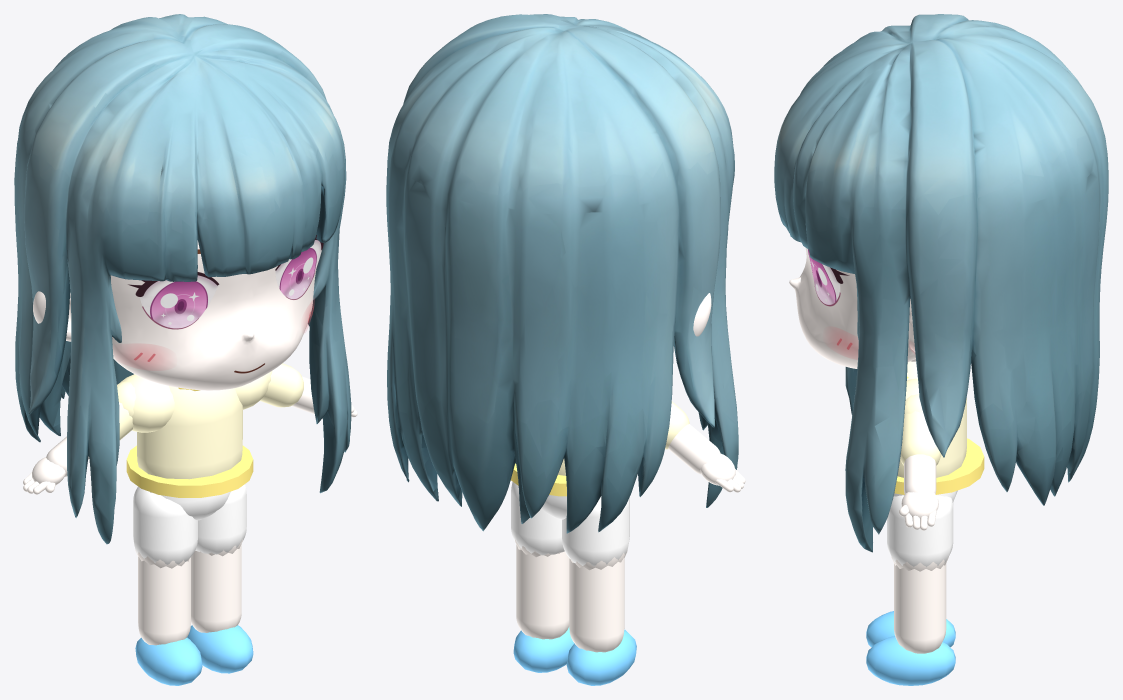
Rendered from frost.glb.
The picture shows the model from 3 angles, left to right: view 1: azimuth 30°, elevation 25°; view 2: azimuth 150°, elevation 25°; view 3: azimuth 270°, elevation 25°; orthographic projection. The views are drawn at different scales.
Visible parts, largest first — view 1: Hair, Legs, HeadSkin.001, Upper, Face.001, ArmR, ArmL; view 2: Hair, Legs, ArmR, Upper; view 3: Hair, Legs, HeadSkin.001, ArmL, Upper, Face.001.
Boxes of the visible parts, <box> form: Hair: <box>14,14,351,544</box>; Legs: <box>133,484,253,685</box>; HeadSkin.001: <box>33,240,316,390</box>; Upper: <box>120,374,268,520</box>; Face.001: <box>120,235,323,373</box>; ArmR: <box>23,381,136,494</box>; ArmL: <box>260,363,357,417</box>; Hair: <box>386,14,738,533</box>; Legs: <box>511,481,636,685</box>; ArmR: <box>665,401,745,492</box>; Upper: <box>511,459,566,519</box>; Hair: <box>774,14,1108,552</box>; Legs: <box>866,495,955,685</box>; HeadSkin.001: <box>789,247,916,368</box>; ArmL: <box>899,394,941,530</box>; Upper: <box>894,361,984,502</box>; Face.001: <box>806,248,914,359</box>.
Size of the model in its own units: 1.68 by 3.07 by 1.46.
Materials: 8 (2 with a texture image).
